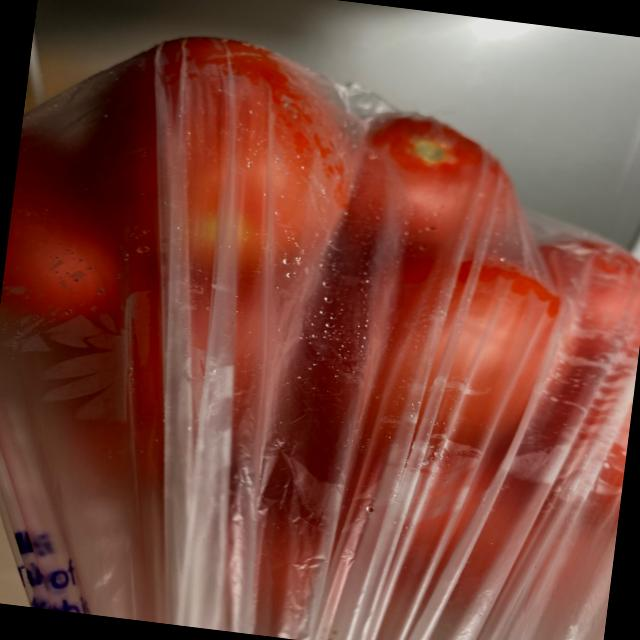tomato: (0, 22, 640, 614)
